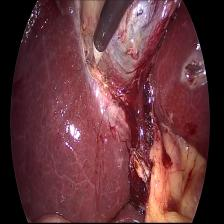Hook: (82, 31, 108, 76)
